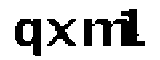1: (116, 6, 151, 51)
m: (80, 17, 128, 52)
q: (12, 16, 44, 60)
x: (46, 15, 75, 50)
